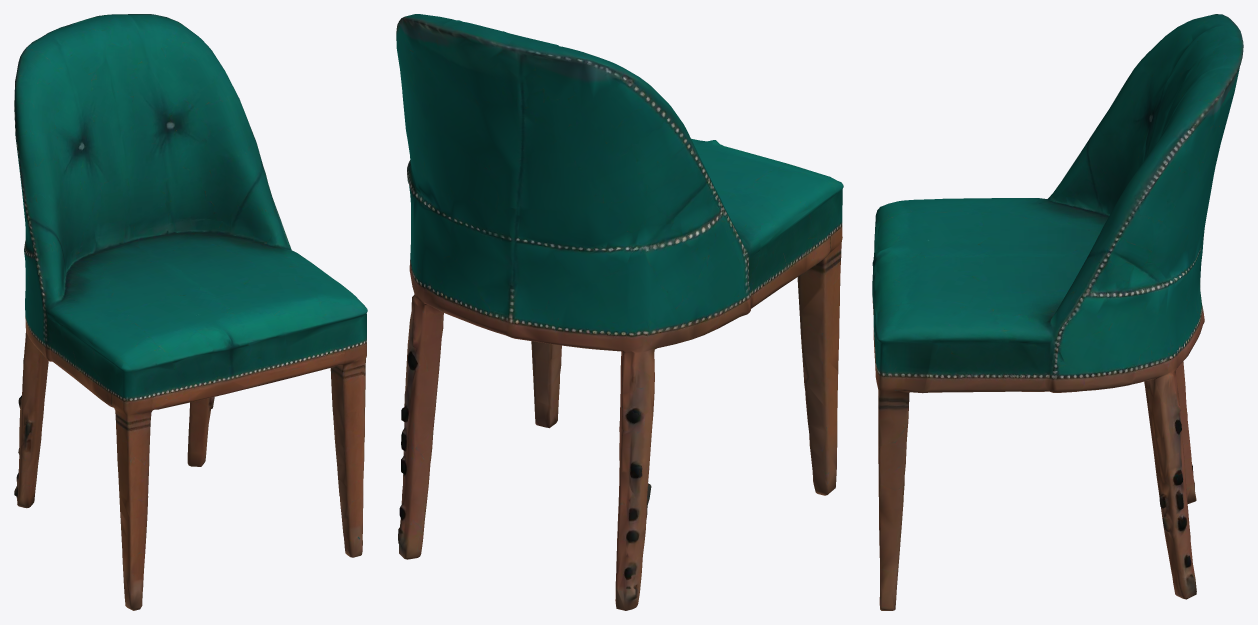
Rendered from lounge-dining-chair.glb.
The picture shows the model from 3 angles, left to right: view 1: azimuth 30°, elevation 25°; view 2: azimuth 150°, elevation 25°; view 3: azimuth 270°, elevation 25°; orthographic projection. The views are drawn at different scales.
Bounding box in the file's own units: 1.16 × 2 × 1.33.
1 material, 1 textured.
